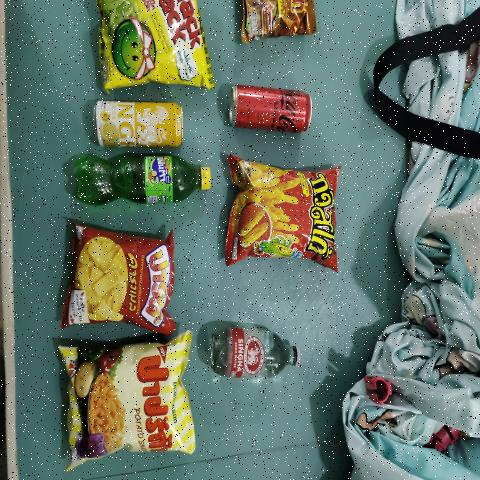coke_red: (236, 91, 310, 131)
fanta_green: (60, 150, 210, 204)
paprika: (63, 349, 191, 453)
party_red: (76, 240, 166, 334)
singha_soda: (205, 324, 300, 383)
singha_yellow: (98, 98, 182, 145)
snack_jack: (98, 0, 208, 91)
twisco: (218, 156, 344, 276)
